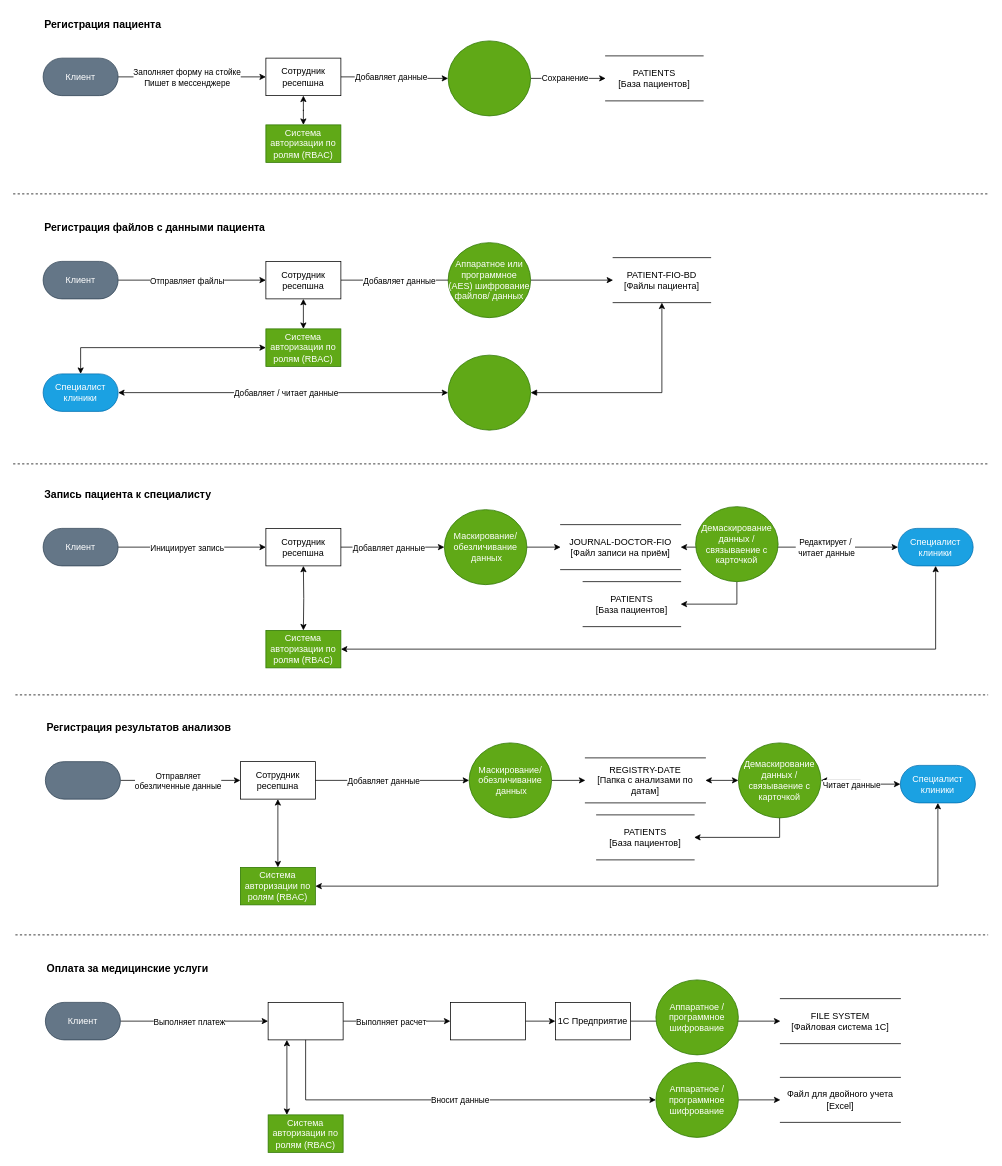
The diagram is 1002 pixels wide and 1166 high, and some of its shapes have lost their labels. The centre of each missing label's shape, as x and y in pixels:
"Дешифрование файлов и данных" goes at (489,392).
"Кассир" goes at (305,1021).
"ККМ" goes at (487,1021).
"Лаборатория" goes at (82,780).
"Шифрование персональных данных для хранения" goes at (489,78).
